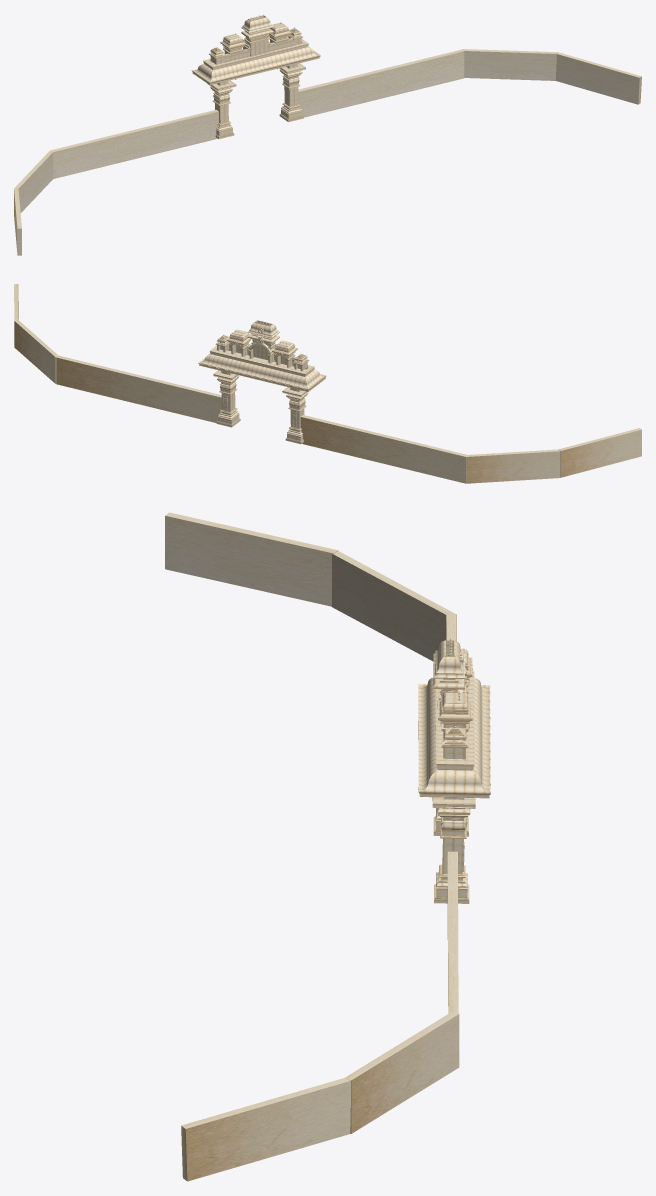
Rendered from vrundavanGate.glb.
The picture shows the model from 3 angles, top to bottom: view 1: azimuth 30°, elevation 25°; view 2: azimuth 150°, elevation 25°; view 3: azimuth 270°, elevation 25°; orthographic projection. The views are drawn at different scales.
Parts seen in each view (by area): view 1: Air Terminals 1 Air Terminals 1 [184268]__0, Cube.002, Cube.001, Cube.006, Cube.005, Cube.003, Cube.004; view 2: Air Terminals 1 Air Terminals 1 [184268]__0, Cube.001, Cube.002, Cube.003, Cube.004, Cube.006; view 3: Air Terminals 1 Air Terminals 1 [184268]__0, Cube.005, Cube.004, Cube.003, Cube.006, Cube.002.
Part boxes in pixels (x1,y1,x2,y2): Air Terminals 1 Air Terminals 1 [184268]__0: [191, 14, 320, 139]; Cube.002: [298, 49, 464, 117]; Cube.001: [50, 110, 218, 178]; Cube.006: [462, 49, 557, 80]; Cube.005: [555, 52, 641, 104]; Cube.003: [15, 151, 53, 212]; Cube.004: [14, 188, 21, 255]; Air Terminals 1 Air Terminals 1 [184268]__0: [198, 320, 326, 444]; Cube.001: [300, 415, 468, 483]; Cube.002: [56, 355, 221, 422]; Cube.003: [466, 449, 560, 483]; Cube.004: [559, 428, 641, 477]; Cube.006: [14, 320, 59, 383]; Air Terminals 1 Air Terminals 1 [184268]__0: [418, 638, 490, 903]; Cube.005: [181, 1077, 352, 1181]; Cube.004: [165, 512, 338, 606]; Cube.003: [331, 551, 456, 661]; Cube.006: [344, 1012, 459, 1133]; Cube.002: [447, 851, 458, 1013].
Size of the model in its own units: 145 by 25.56 by 32.69.
Materials: 2 (2 with a texture image).
